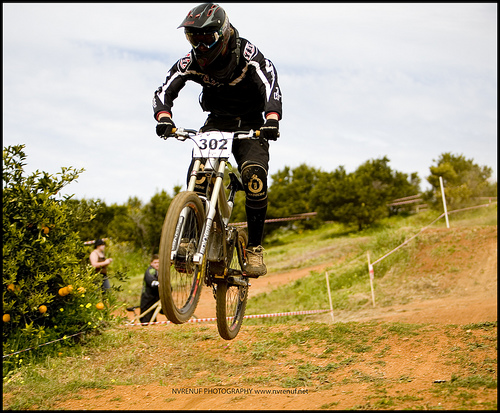helmet: (178, 6, 236, 52)
